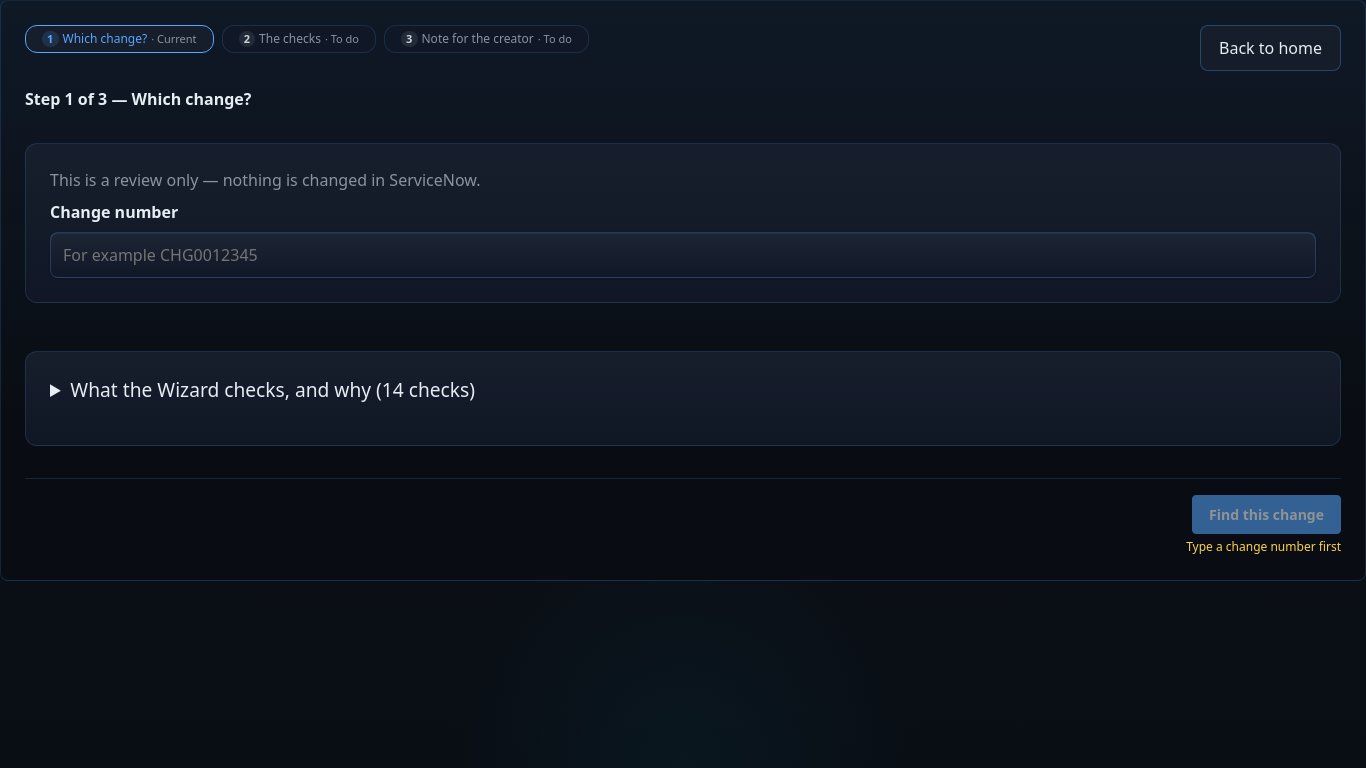
Test: ReviewWizard › offers a prompt to talk the change through with an AI assistant, carrying every verdict
In the field labelled "Change number": [683, 255] box [50, 232, 1316, 278], type "CHG0012345"
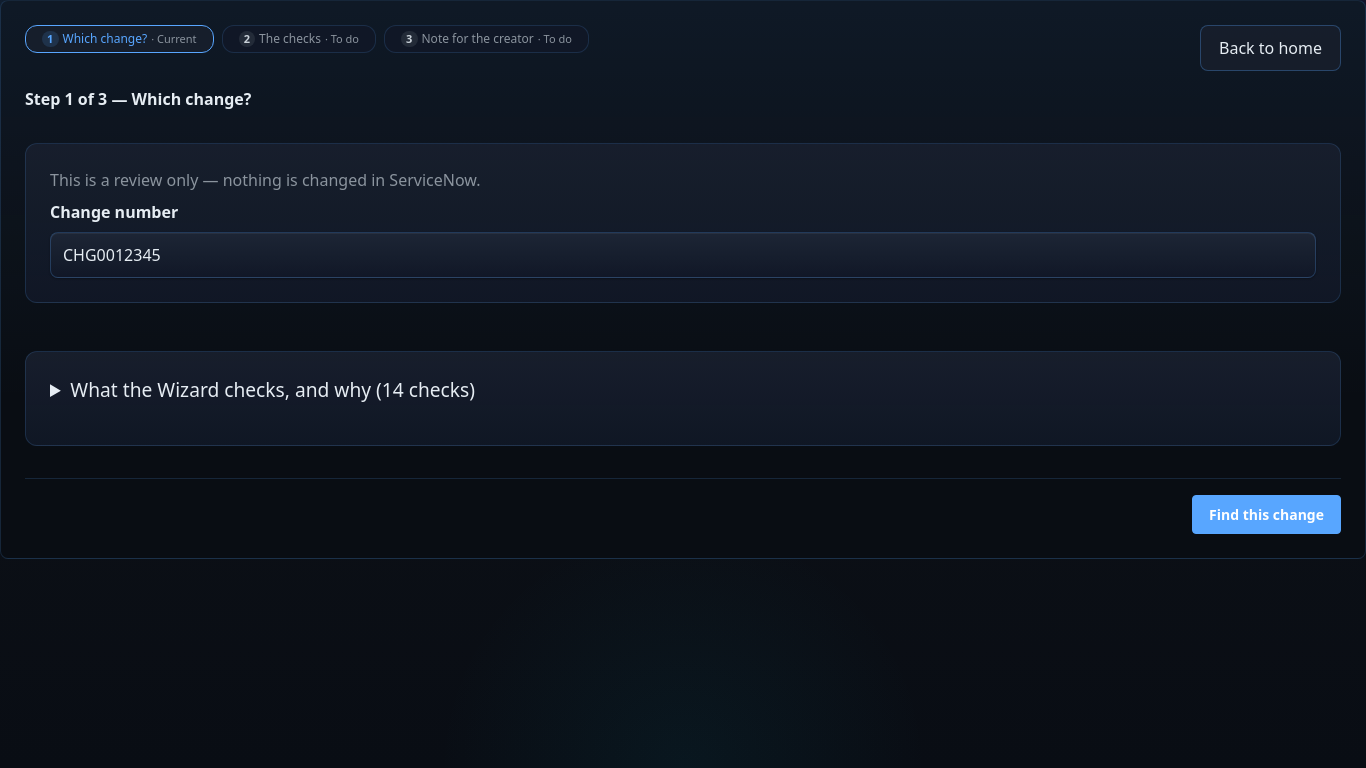
Click the button "Find this change": [1266, 514] box [1192, 495, 1341, 534]
(page scrolled)
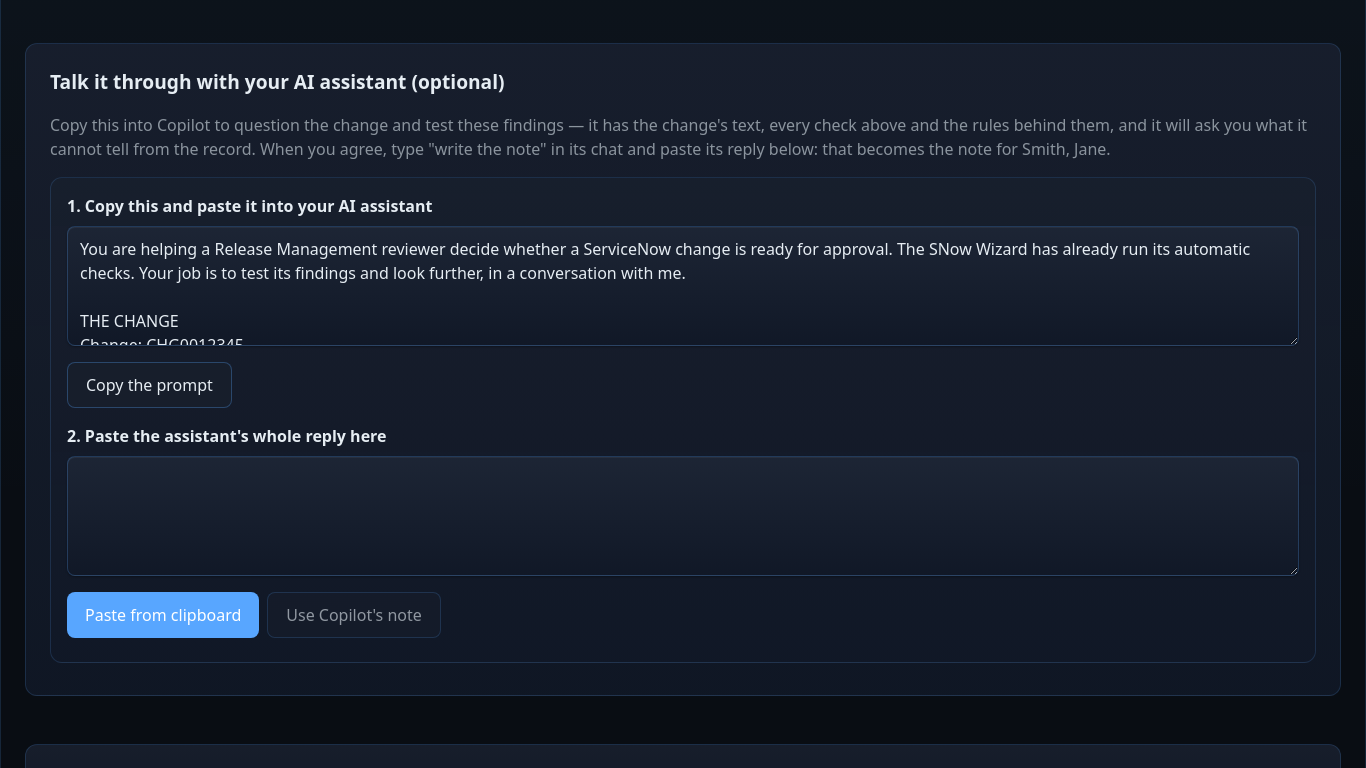
Expected: the button "Copy the prompt" is shown, [67, 362, 232, 408]
